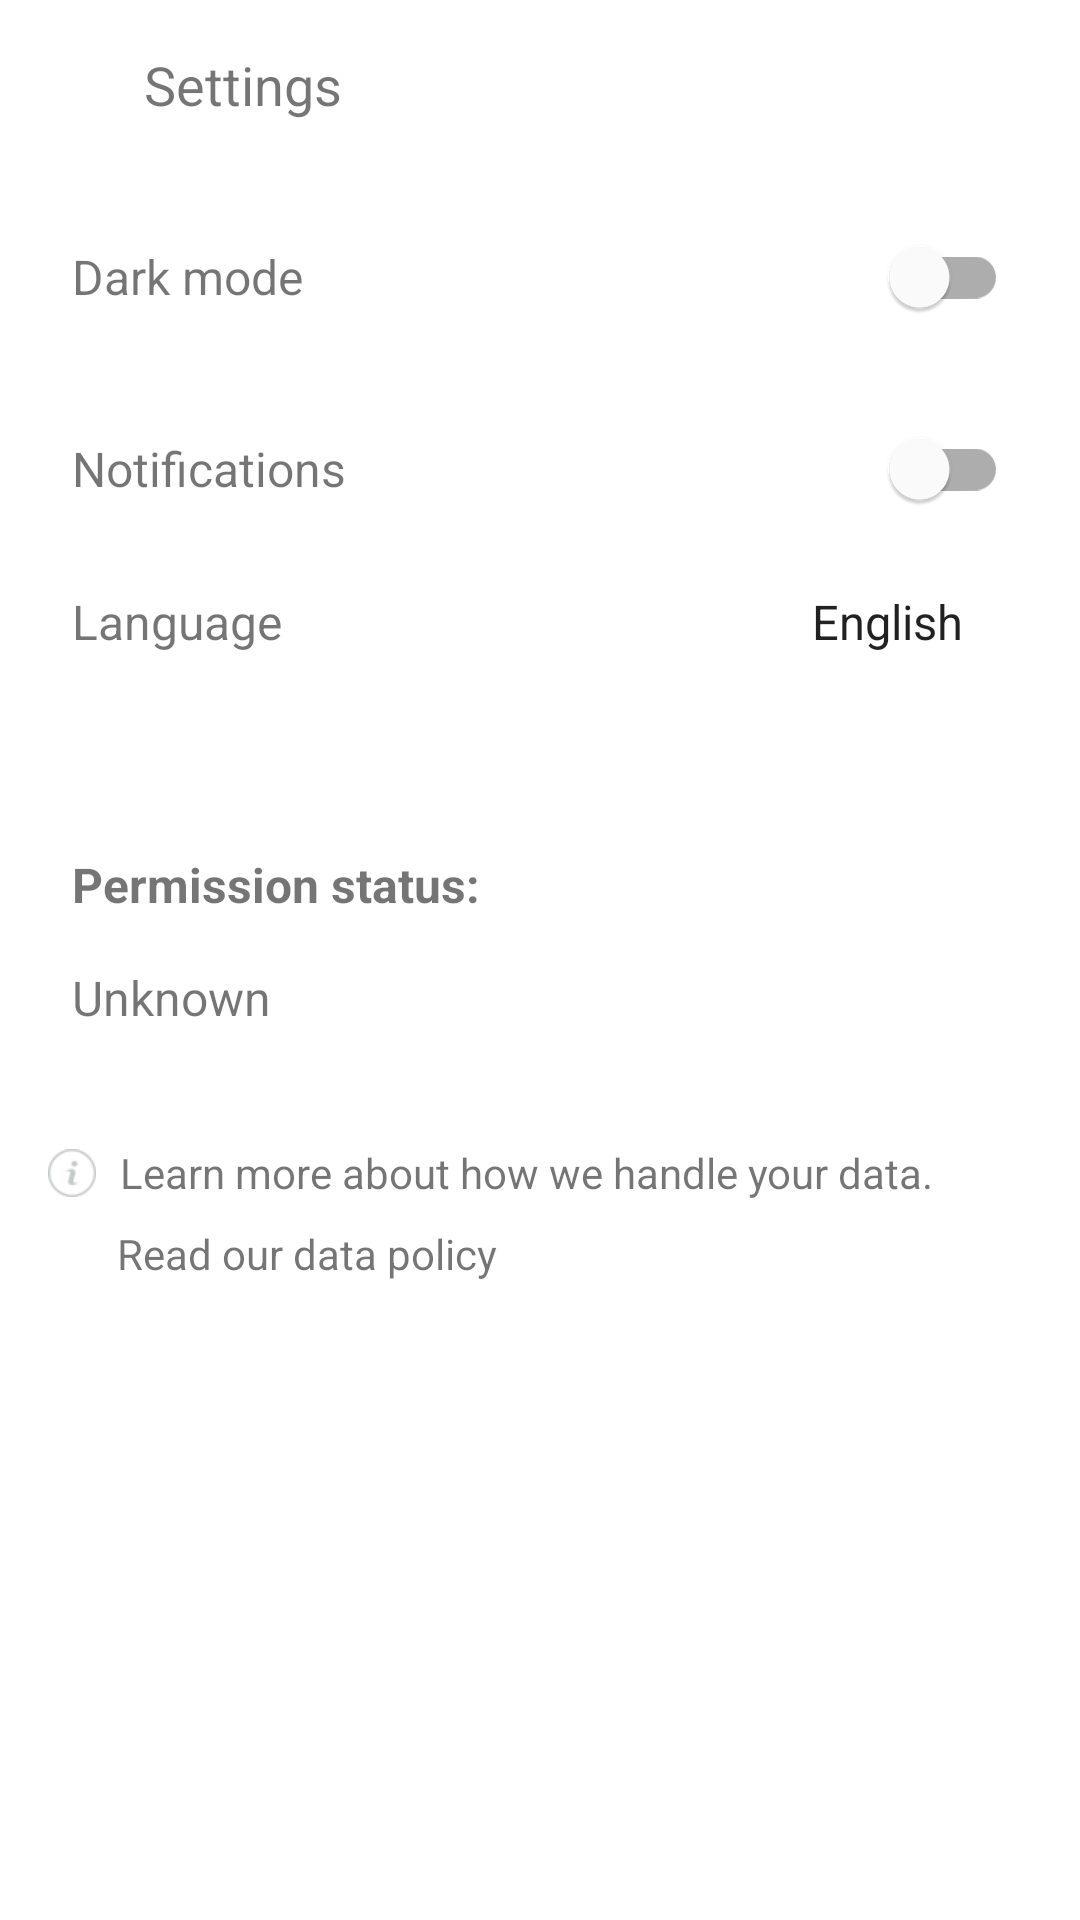

Icon click points for this 1080px×1920px phone screenshot, format [x,y]:
info icon: [72,1173]
